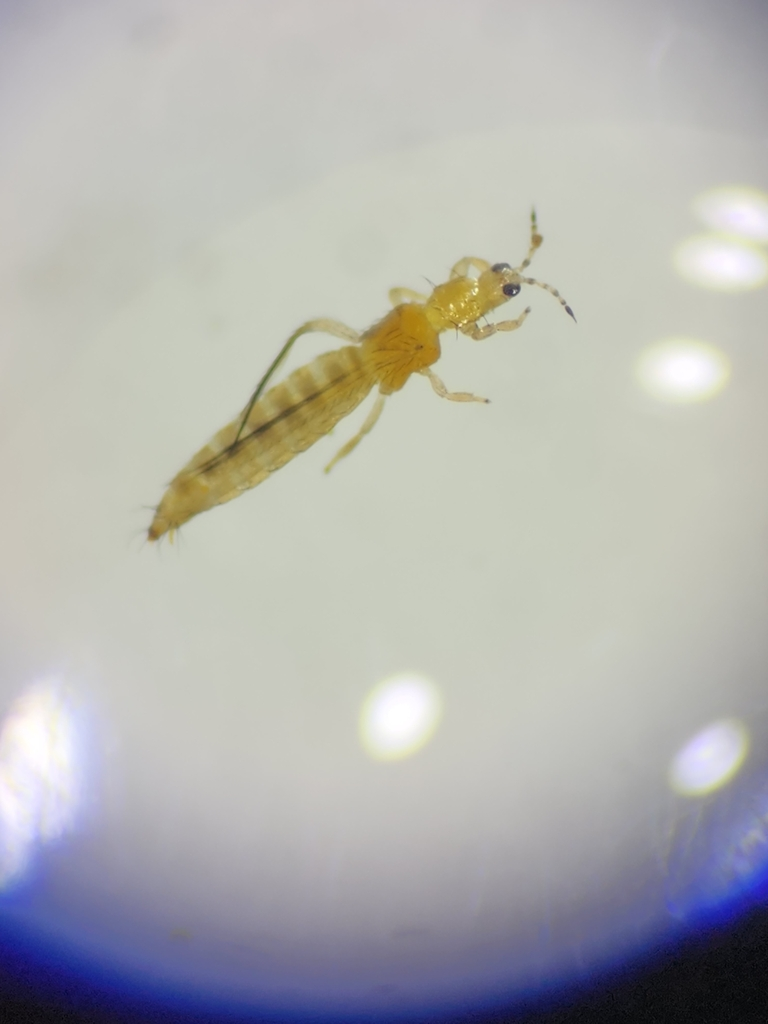tiny_pests: (59, 131, 651, 597)
